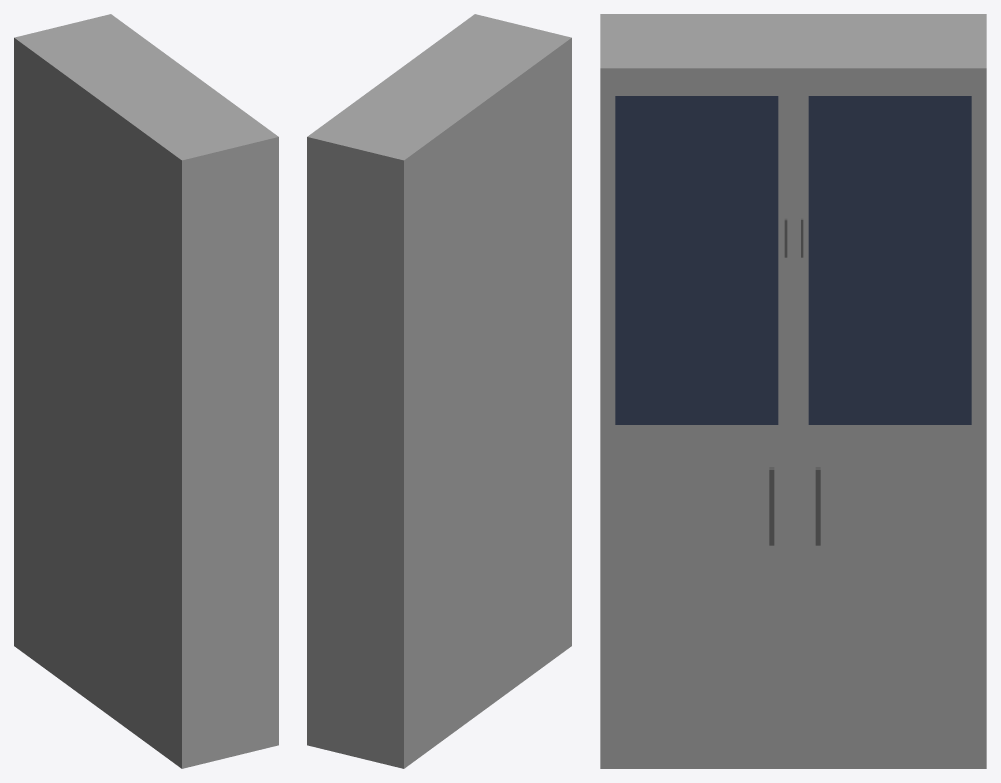
Rendered from SM_Prop_Kitchen_Cabinet_00.fbx.
3 renders of one model, left to right at view 1: azimuth 30°, elevation 25°; view 2: azimuth 150°, elevation 25°; view 3: azimuth 270°, elevation 25°, orthographic. The views are drawn at different scales.
Visible parts, largest first — view 1: Cube.001; view 2: Cube.001; view 3: Cube.001.
Part boxes in pixels (x1,y1,x2,y2): Cube.001: (14, 14, 278, 768); Cube.001: (307, 14, 571, 768); Cube.001: (600, 14, 986, 768).
Bounding box in the file's own units: 211 × 1200 × 600.
